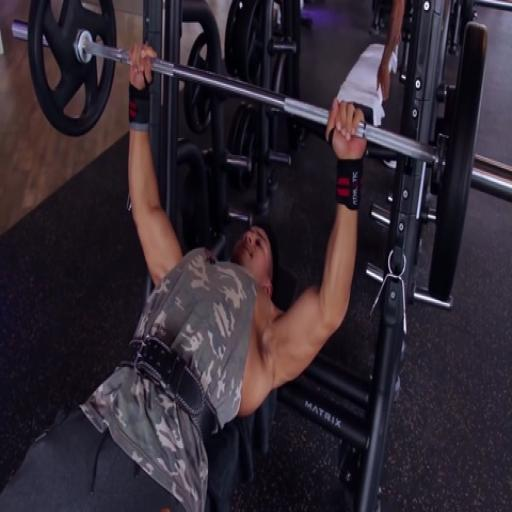exercise: (0, 40, 371, 510)
